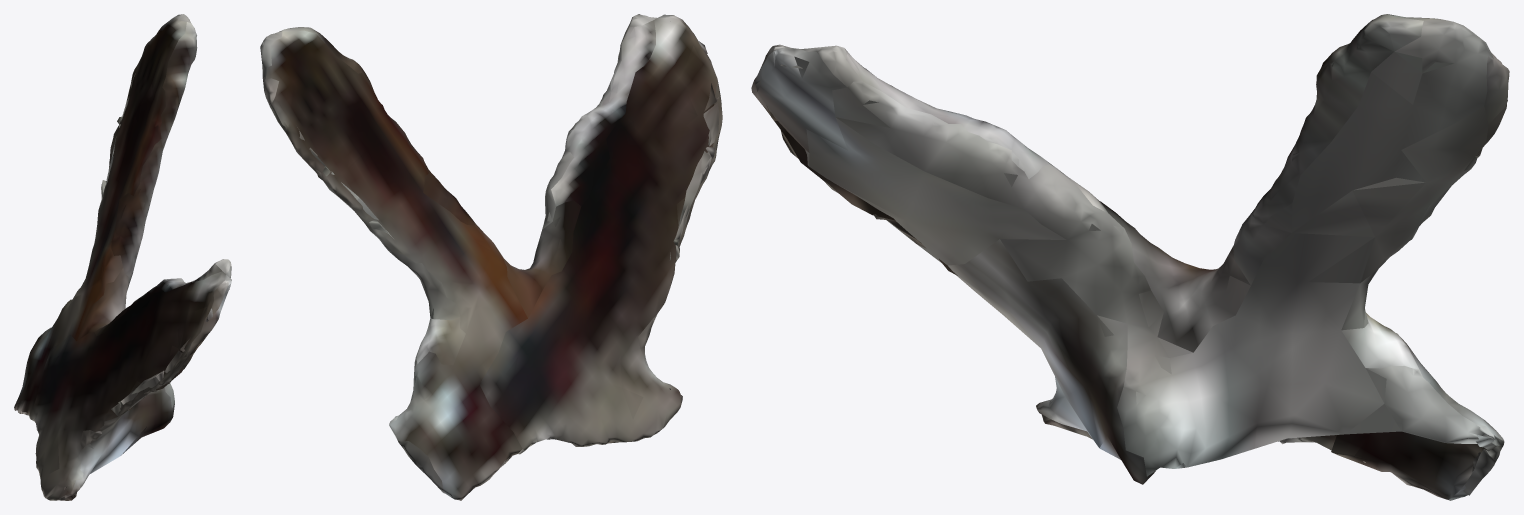
Rendered from GrandpaPin.glb.
The picture shows the model from 3 angles, left to right: view 1: azimuth 30°, elevation 25°; view 2: azimuth 150°, elevation 25°; view 3: azimuth 270°, elevation 25°; orthographic projection. The views are drawn at different scales.
Visible parts, largest first — view 1: mesh.009; view 2: mesh.009; view 3: mesh.009.
Part boxes in pixels (x1,y1,x2,y2): mesh.009: (14, 14, 231, 500); mesh.009: (260, 14, 722, 500); mesh.009: (751, 14, 1509, 500).
Bounding box in the file's own units: 0.0597 × 0.0837 × 0.0934.
Materials: 1 (1 with a texture image).
